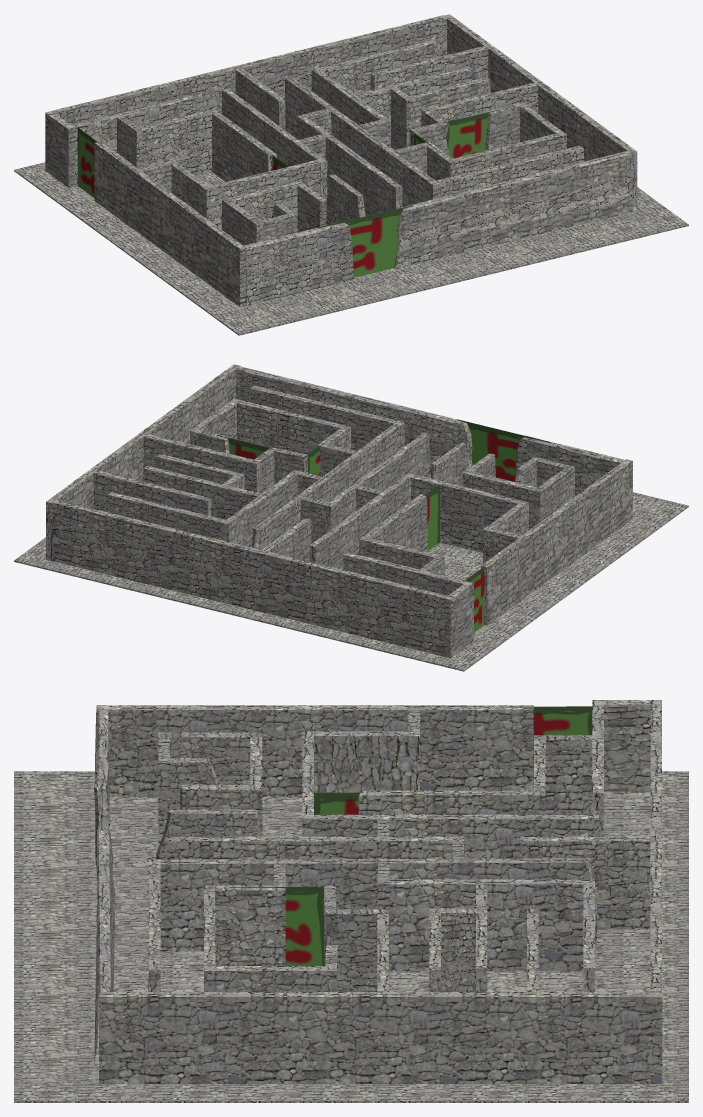
Rendered from Labirint2.gltf.
3 views of the same model, one above another, from view 1: azimuth 30°, elevation 25°; view 2: azimuth 150°, elevation 25°; view 3: azimuth 270°, elevation 25° (orthographic). The views are drawn at different scales.
Parts seen in each view (by area): view 1: tla, wall.035, wall.040, wall.030, wall.01, wall.02, wall.010, wall.08, wall.026, wall.06, wall.032, Trigger.001 (+29 smaller); view 2: wall.030, tla, wall.040, wall.02, wall.035, wall.05, wall.010, wall.016, wall.06, wall.019, wall.08, wall.037 (+30 smaller); view 3: tla, wall.02, wall.040, wall.010, wall.012, wall.06, wall.031, wall.08, wall.04, wall.015, wall.032, wall.028 (+27 smaller).
Boxes of the visible parts, <box> form: tla: <box>14,147,688,335</box>; wall.035: <box>394,151,632,268</box>; wall.040: <box>94,141,246,307</box>; wall.030: <box>52,15,446,124</box>; wall.01: <box>244,222,354,305</box>; wall.02: <box>444,14,637,210</box>; wall.010: <box>285,76,435,206</box>; wall.08: <box>297,114,402,216</box>; wall.026: <box>139,110,211,175</box>; wall.06: <box>222,89,327,199</box>; wall.032: <box>208,109,276,181</box>; Trigger.001: <box>318,205,412,277</box>; wall.030: <box>52,500,447,656</box>; tla: <box>14,474,688,671</box>; wall.040: <box>480,459,632,625</box>; wall.02: <box>46,364,239,561</box>; wall.035: <box>236,366,472,474</box>; wall.05: <box>411,474,528,552</box>; wall.010: <box>251,423,400,549</box>; wall.016: <box>237,400,350,454</box>; wall.06: <box>309,473,414,569</box>; wall.019: <box>250,385,404,451</box>; wall.08: <box>324,433,429,533</box>; wall.037: <box>93,470,211,515</box>; tla: <box>14,771,688,1102</box>; wall.02: <box>99,992,662,1083</box>; wall.040: <box>96,705,533,796</box>; wall.010: <box>160,858,597,951</box>; wall.012: <box>389,879,594,971</box>; wall.06: <box>302,814,598,858</box>; wall.031: <box>520,836,650,928</box>; wall.08: <box>167,836,463,859</box>; wall.04: <box>314,731,419,792</box>; wall.015: <box>215,885,285,965</box>; wall.032: <box>358,790,545,814</box>; wall.028: <box>592,700,661,792</box>.
Size of the model in its own units: 407 by 57.3 by 353.
6 materials, 6 textured.
